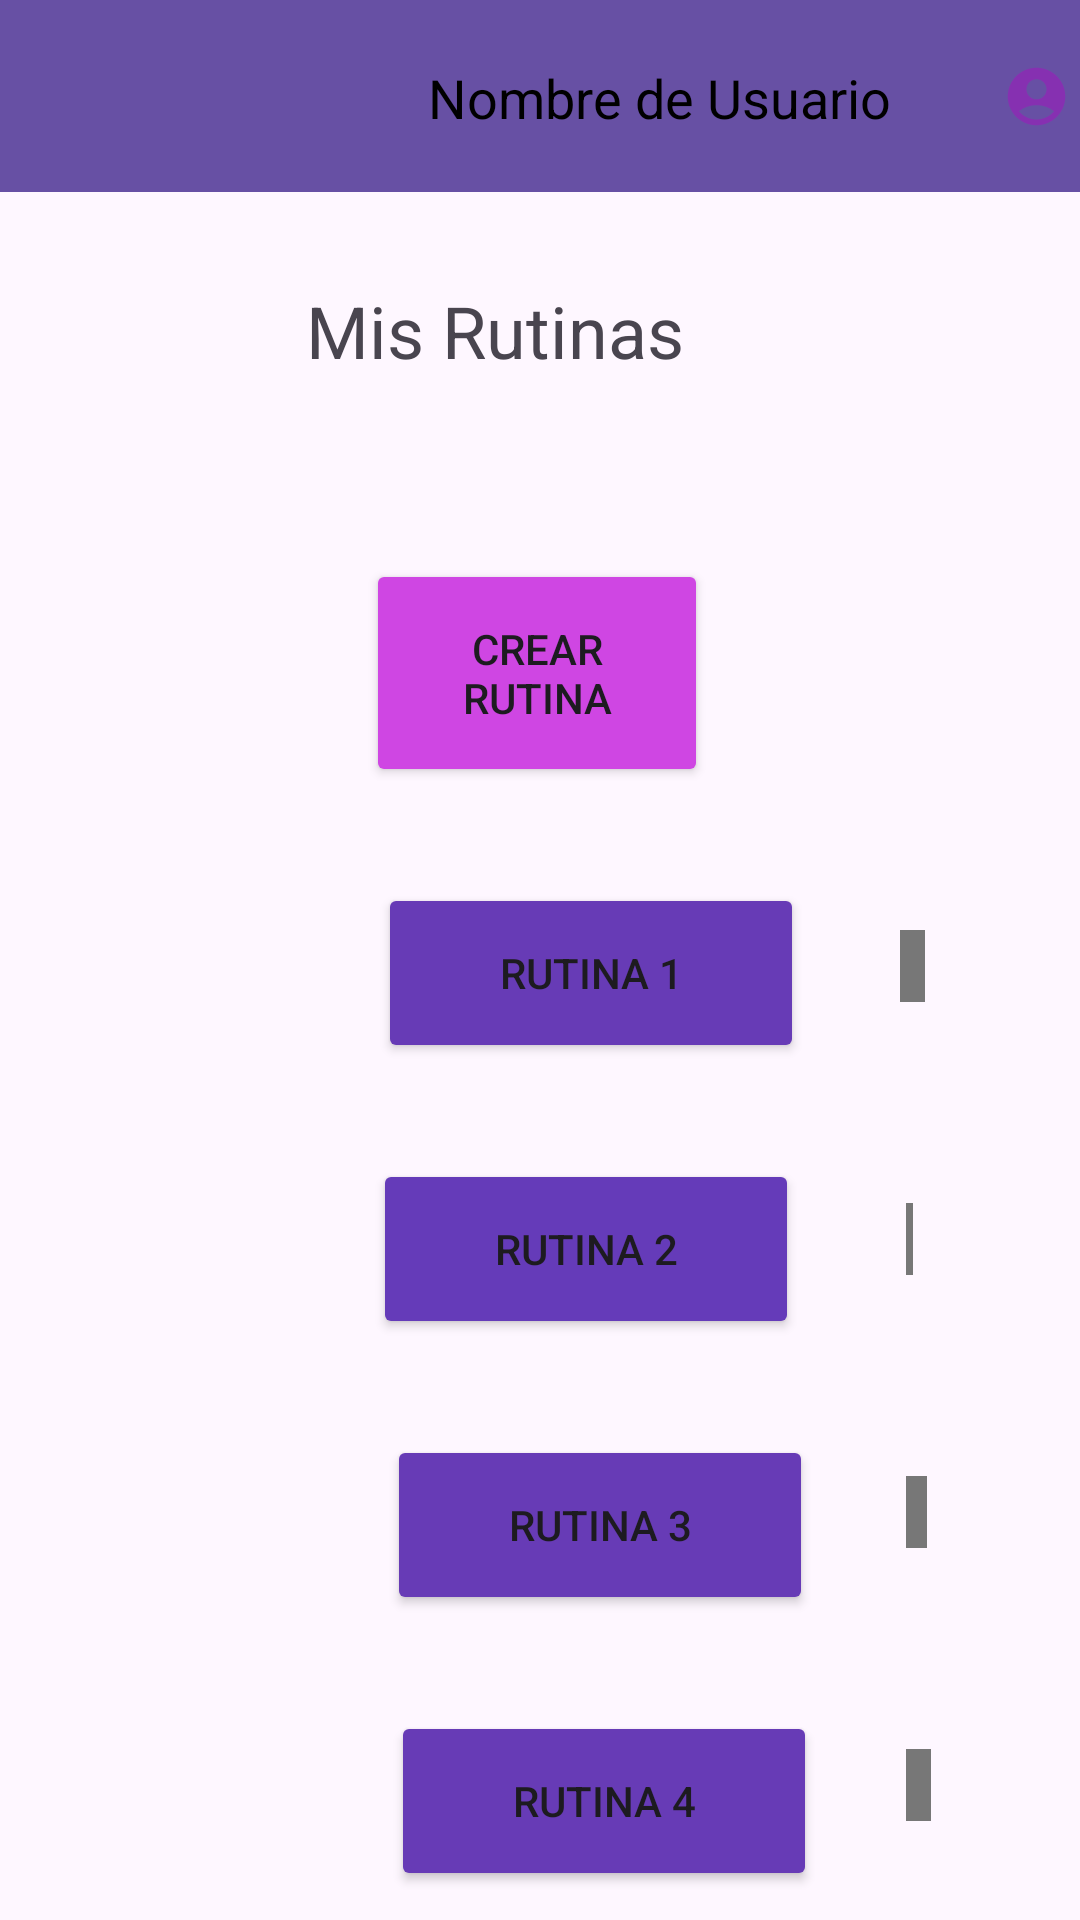

Icon bounding boxes for this 1080px x 1920px phone screenshot, format (x1, y1, x2, y2):
perfil: (1008, 68, 1065, 125)
